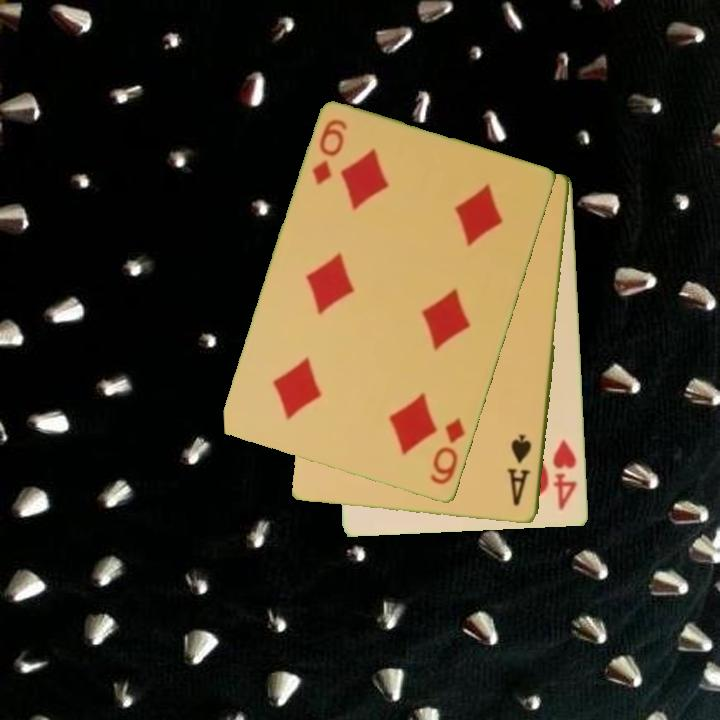4h: (550, 436, 580, 514)
6d: (427, 414, 469, 488), (309, 116, 350, 188)
As: (504, 431, 535, 510)
